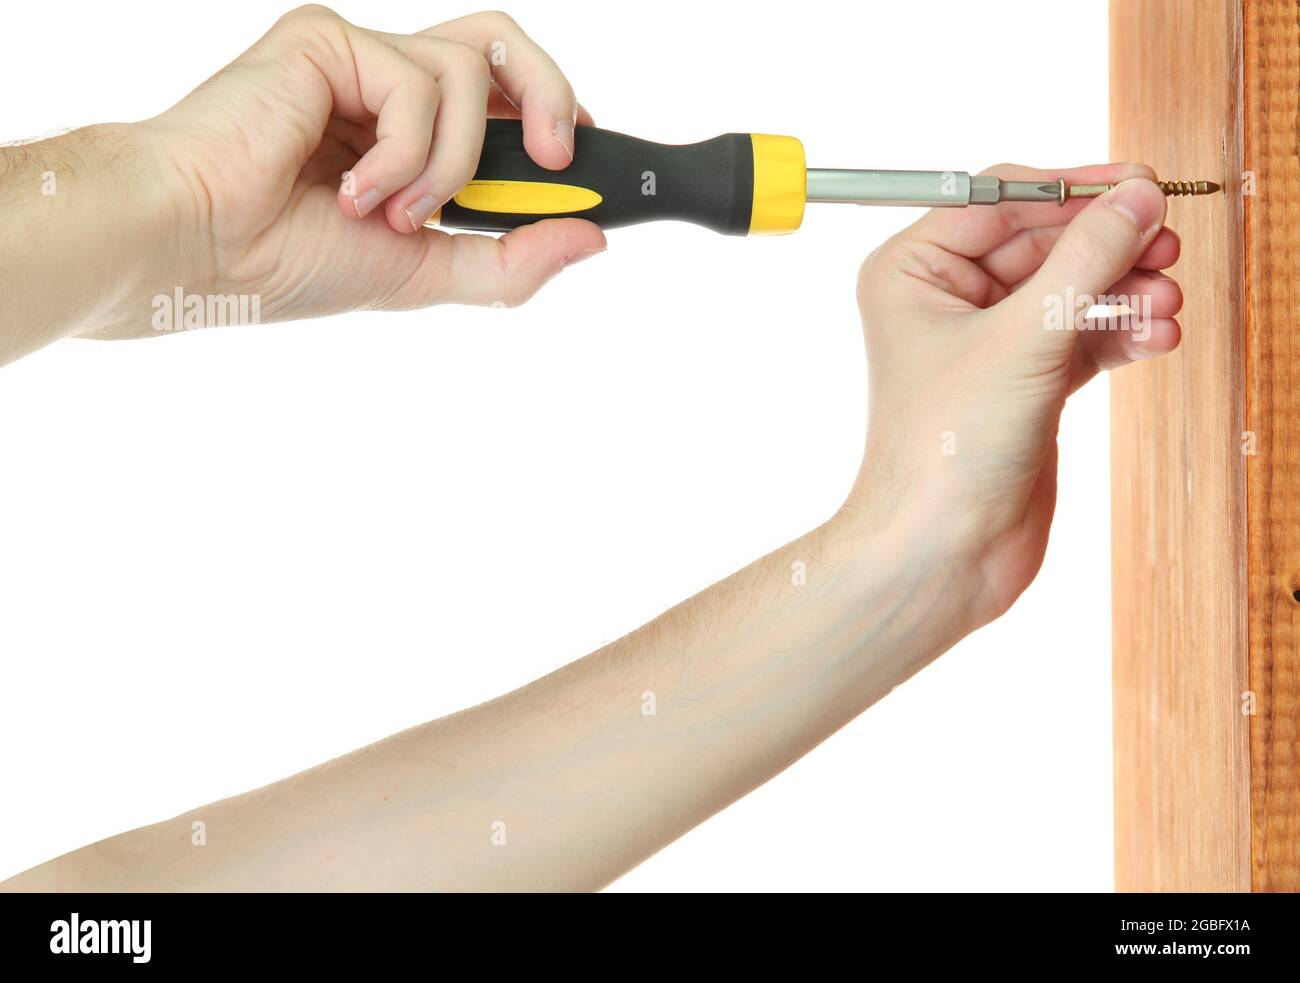screwdriver: (373, 114, 1063, 242)
